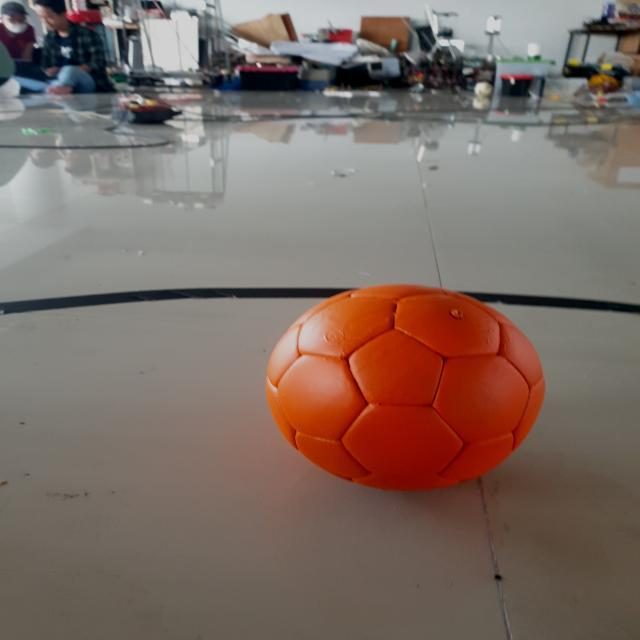bola: (255, 274, 560, 498)
